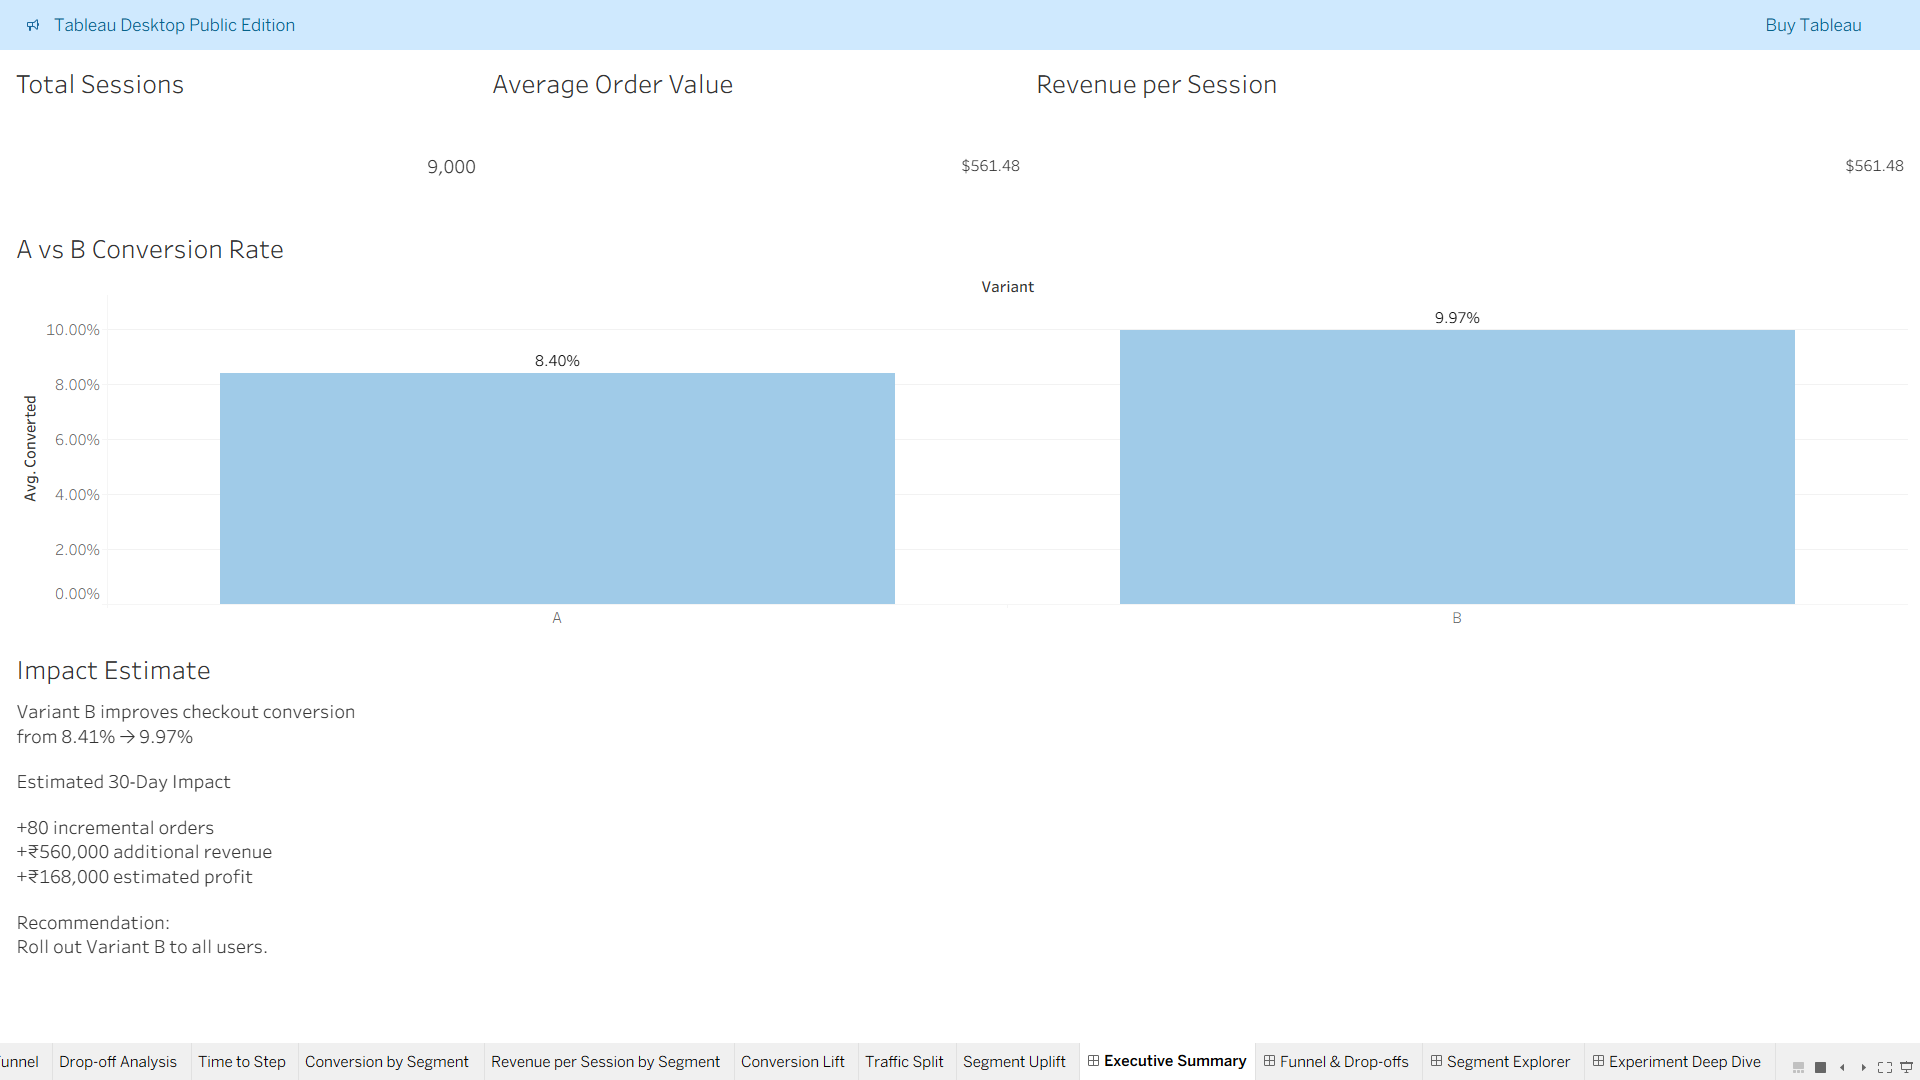

This screenshot's page, from the dashboard's own definition file:
{"tool":"tableau","page":{"name":"Executive Summary","canvas":[1000,1000],"units":"permille","ordinal":0},"visuals":[{"type":"worksheet","title":"Total Sessions","mark":"Automatic","box":[4.8,10,247.5,166]},{"type":"worksheet","title":"Average Order Value","mark":"Automatic","box":[252.3,10,282.9,166]},{"type":"worksheet","title":"Revenue per Session","mark":"Automatic","box":[535.2,10,459.9,166]},{"type":"worksheet","title":"A vs B Conversion Rate","mark":"Automatic","rows":["Calculation_1318147361347657729"],"cols":["variant"],"box":[4.8,175.9,990.3,422]},{"type":"worksheet","title":"Impact Estimate","mark":"Text","box":[4.8,597.9,990.3,392.1]}]}

Visuals, with their boxes on the dashboard's canvas, which has no fixed pixel size, in thousandths of its width and height (x1, y1, x2, y2). These are canvas units, not pixel positions in the 1920x1080 screenshot, which may show the page scaled, cropped or inside an application window:
"Total Sessions" worksheet: box(5, 10, 252, 176)
"Average Order Value" worksheet: box(252, 10, 535, 176)
"Revenue per Session" worksheet: box(535, 10, 995, 176)
"A vs B Conversion Rate" worksheet: box(5, 176, 995, 598)
"Impact Estimate" worksheet (Text marks): box(5, 598, 995, 990)
